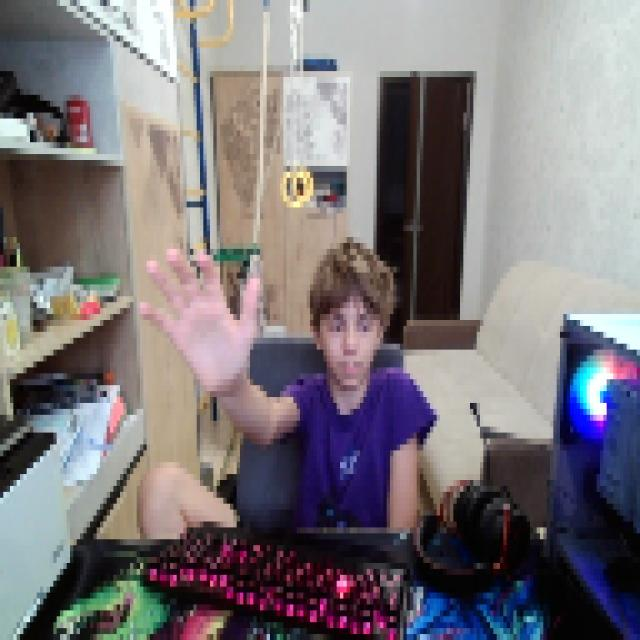hand: (137, 237, 260, 385)
